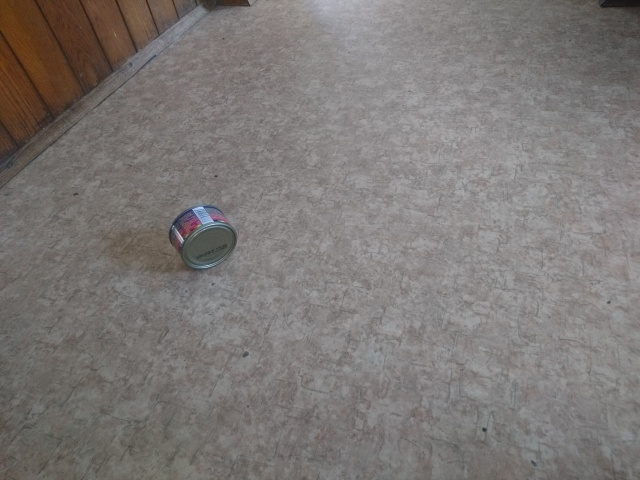Giana Tuna Salad Mexico 185g: (166, 203, 239, 272)
